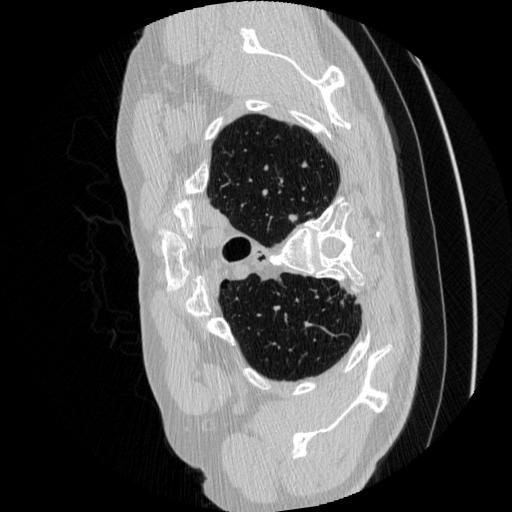nodule: (286, 210, 300, 224)
